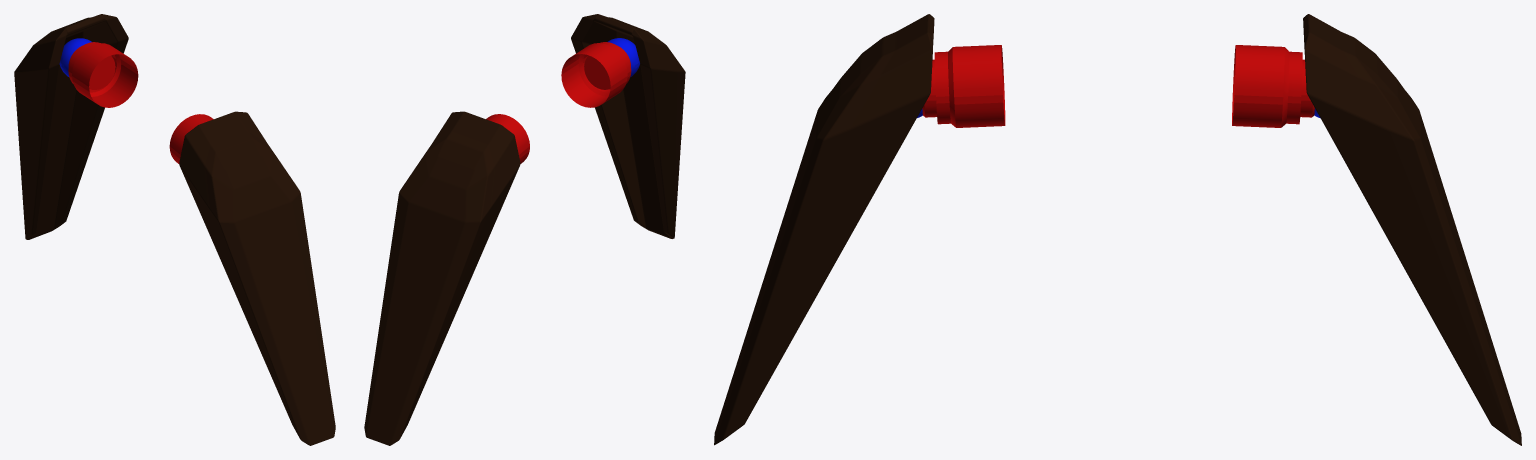
Rendered from brazos.fbx.
The picture shows the model from 3 angles, left to right: view 1: azimuth 30°, elevation 25°; view 2: azimuth 150°, elevation 25°; view 3: azimuth 270°, elevation 25°; orthographic projection. The views are drawn at different scales.
Visible parts, largest first — view 1: Cube.002; view 2: Cube.002; view 3: Cube.002.
Part boxes in pixels (x1,y1,x2,y2): Cube.002: (14,14,335,445); Cube.002: (364,14,685,445); Cube.002: (714,14,1521,445).
Size of the model in its own units: 90.73 by 290 by 529.
